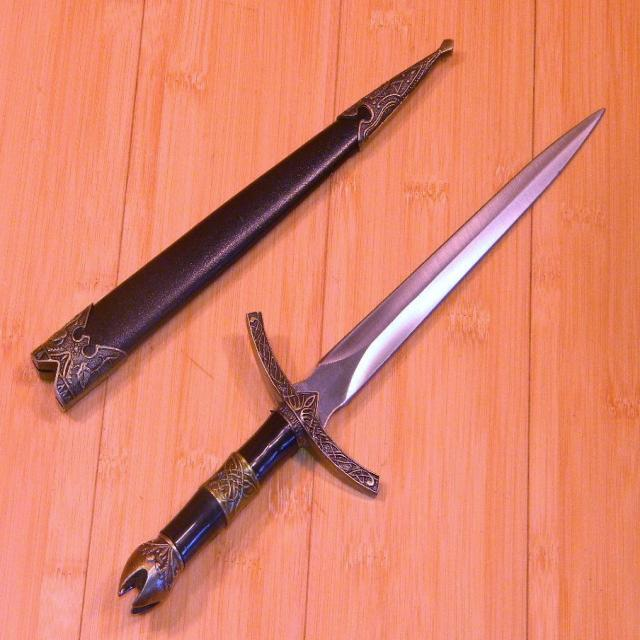short sword: (102, 100, 610, 622)
